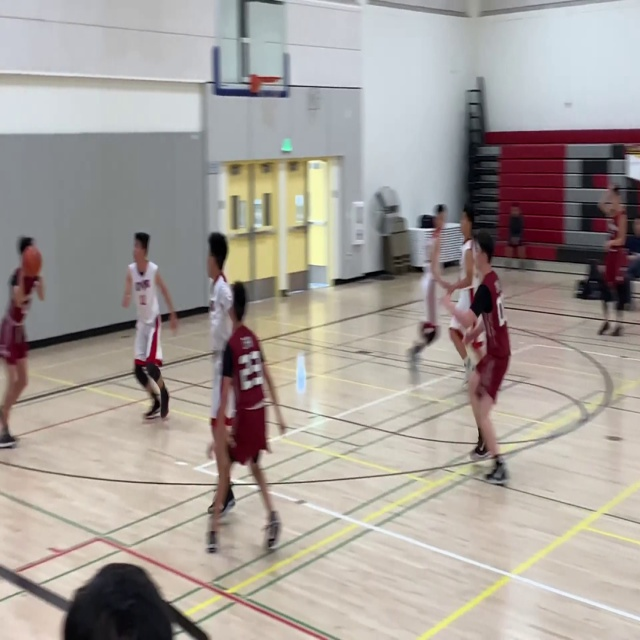Basketball: (22, 246, 42, 277)
